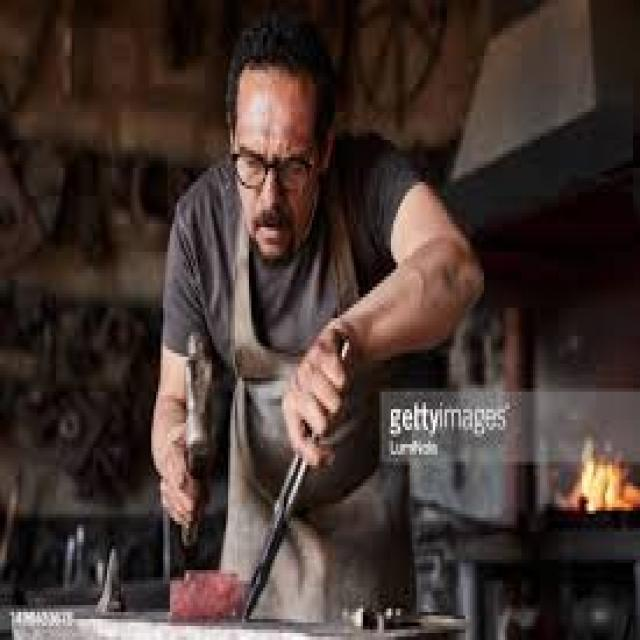hammer: (177, 314, 230, 560)
